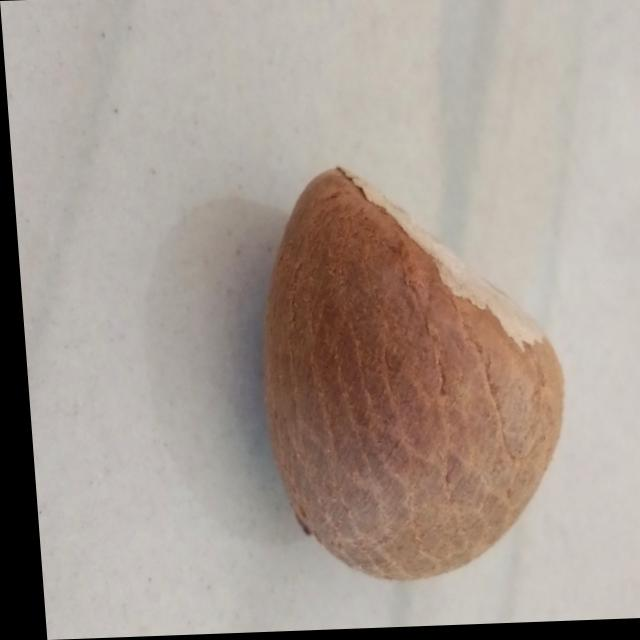good: (226, 115, 587, 597)
